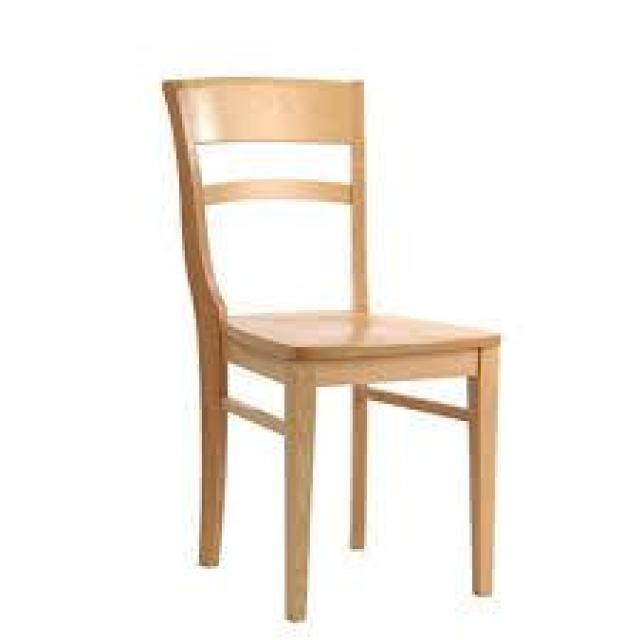chair: (130, 29, 530, 612)
